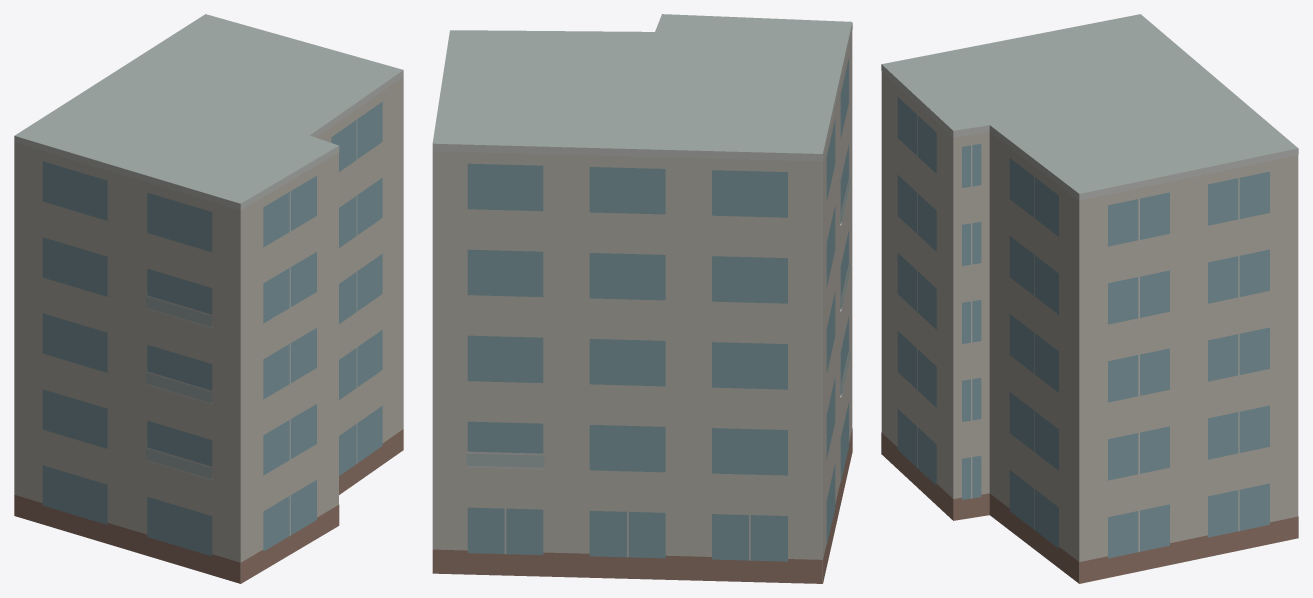
Rendered from survey-upis-32860492.glb.
3 views of the same model, side by side, from view 1: azimuth 30°, elevation 25°; view 2: azimuth 150°, elevation 25°; view 3: azimuth 270°, elevation 25° (orthographic). The views are drawn at different scales.
Visible parts, largest first — view 1: survey-upis-32860492.tmp; view 2: survey-upis-32860492.tmp; view 3: survey-upis-32860492.tmp.
Boxes of the visible parts, box(x1,y1,x2,y2) form: survey-upis-32860492.tmp: box(14, 14, 403, 583); survey-upis-32860492.tmp: box(432, 14, 852, 583); survey-upis-32860492.tmp: box(881, 14, 1298, 583).
Size of the model in its own units: 13.97 by 14.1 by 13.68.
